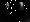person: (5, 5, 11, 16), (20, 4, 25, 15)
